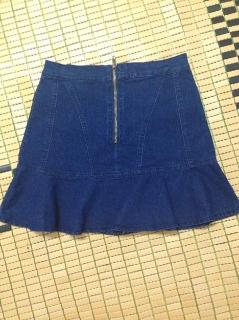skirt: (1, 53, 239, 235)
